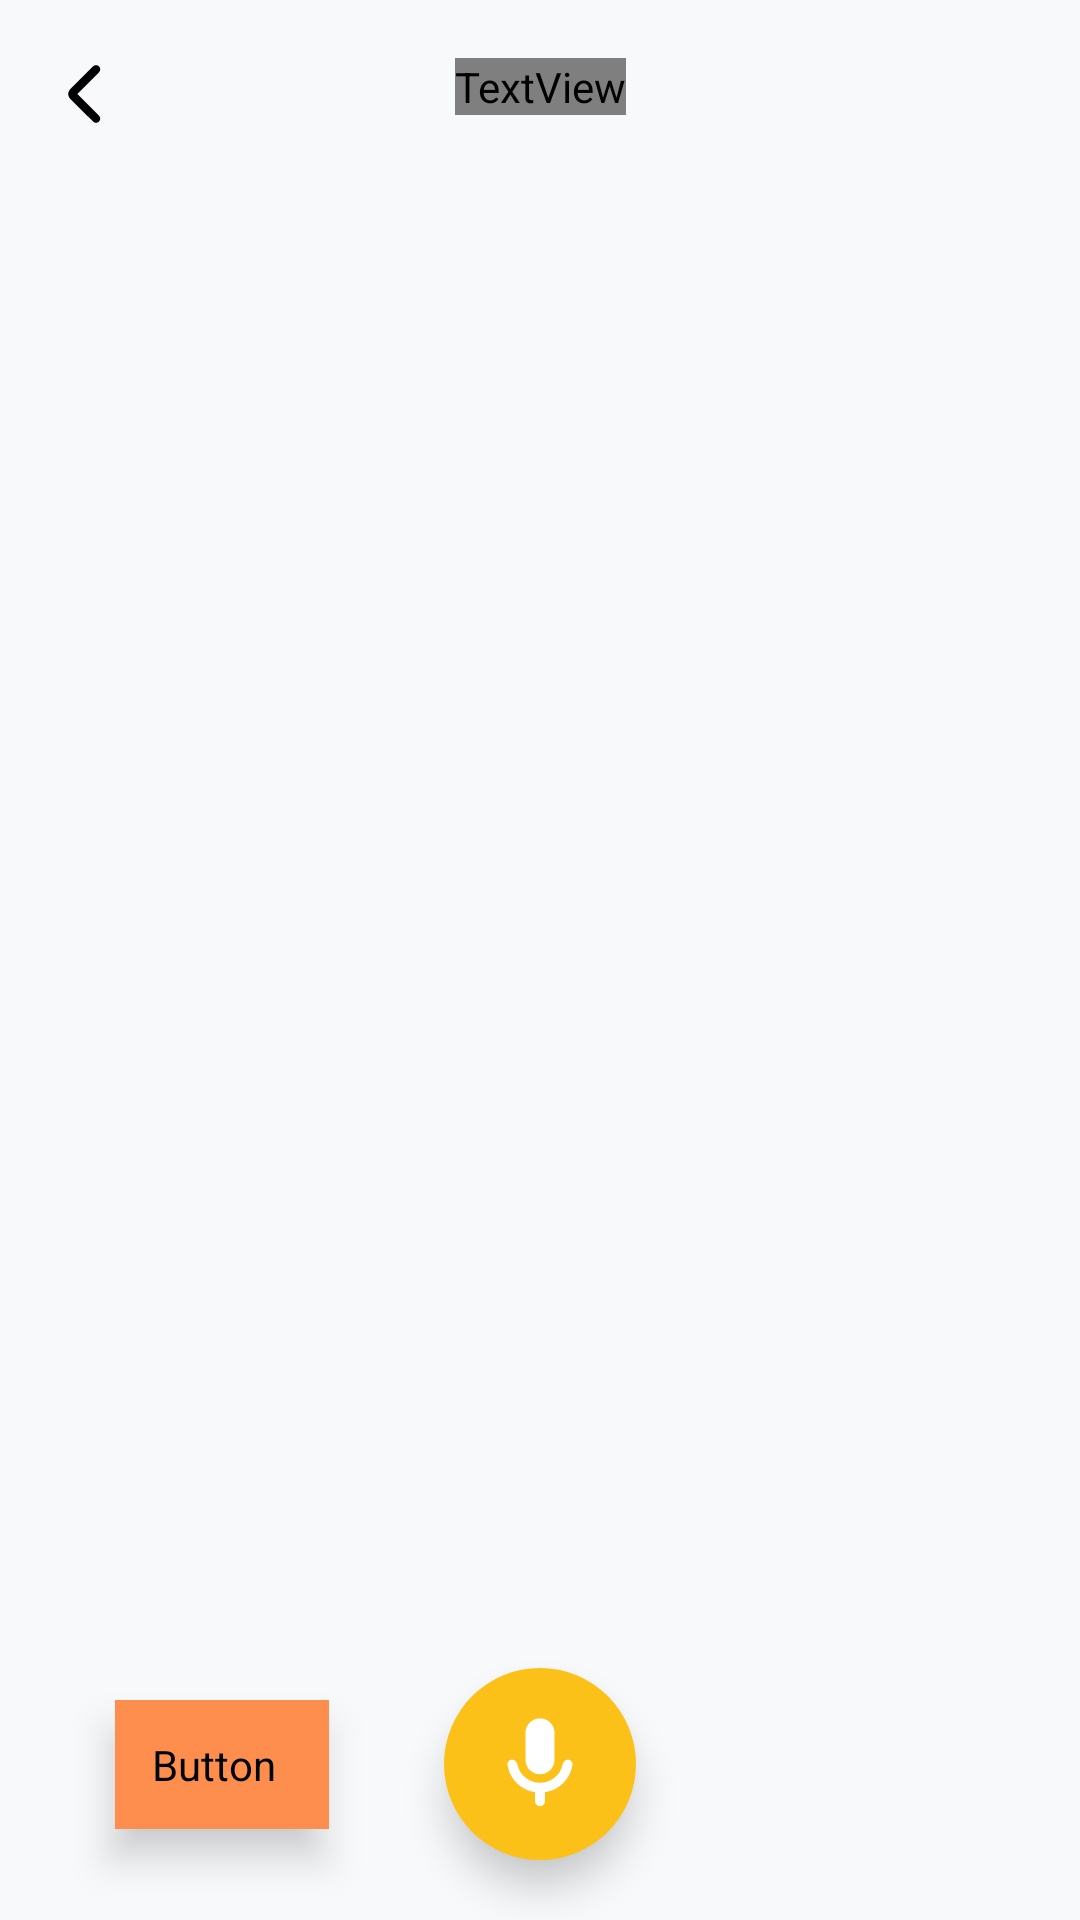

Named icons in this screenshot (1080*1920) and their centers, point (x, y):
back: point (84, 94)
mic: point (540, 1764)
